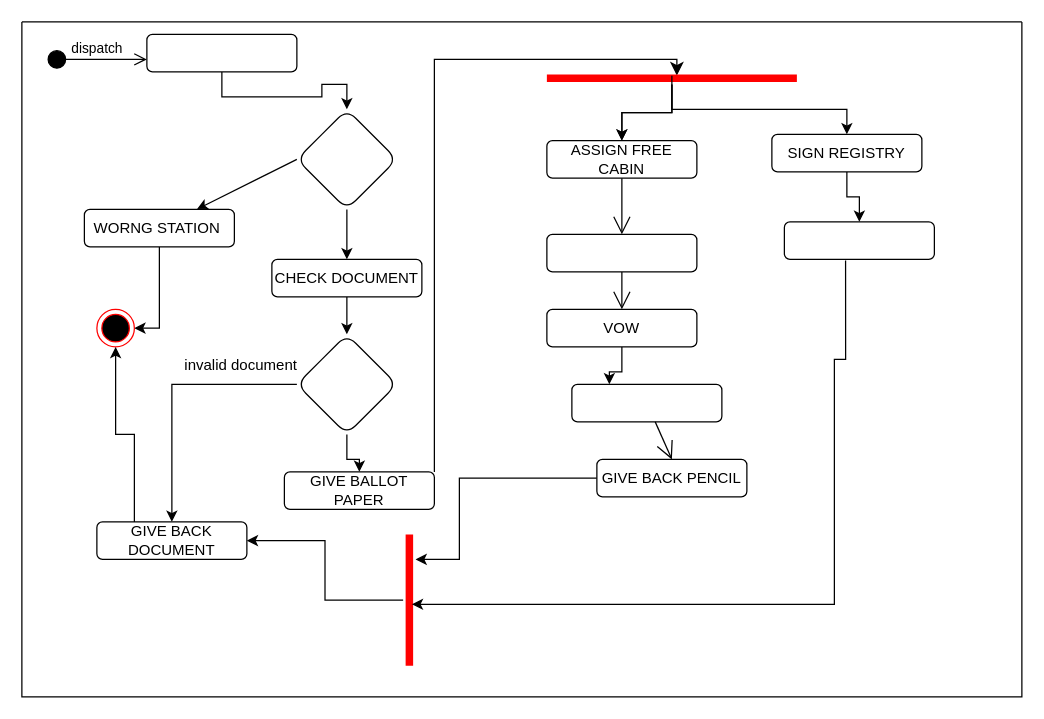
This 1044x719 diagram has some shape labels left out. Here are the shapes that lost their labels. From the top down, the centre of each, then its label:
At pixel 221 52: "GIVE ELECTOR CARD".
At pixel 621 252: "GIVE PENCIIL".
At pixel 858 240: "PRINT CERTIFATE".
At pixel 646 402: "INSERT BALLOT PAPER".
